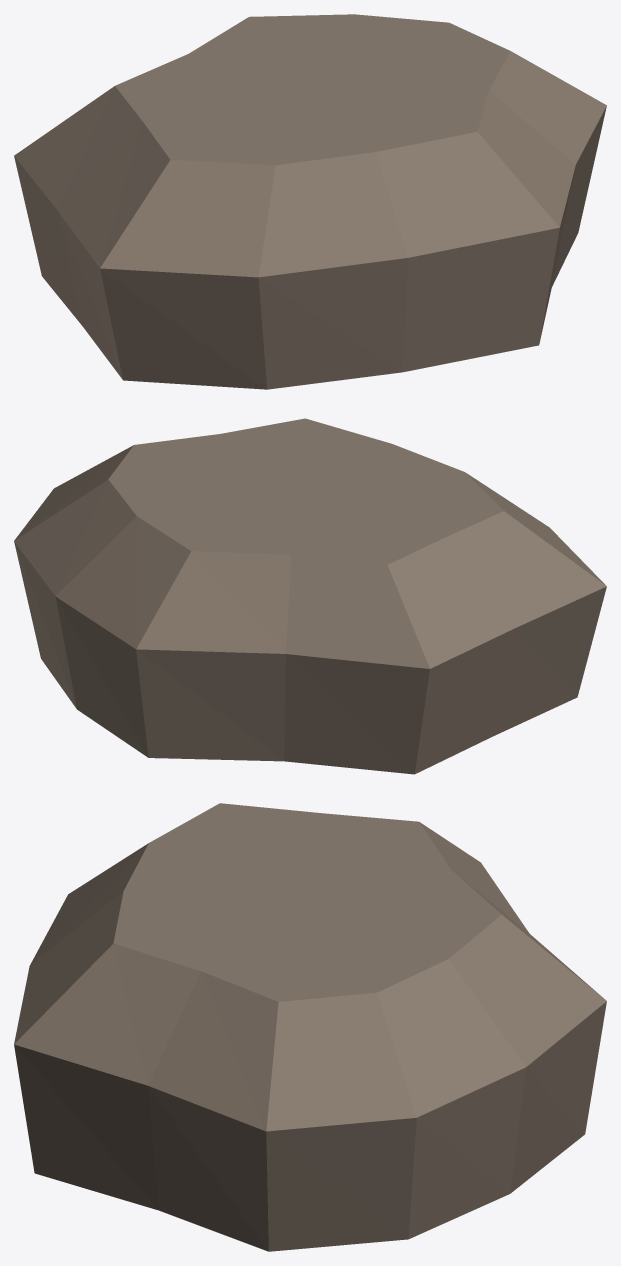
The model's file is stone.glb.
The picture shows the model from 3 angles, top to bottom: view 1: azimuth 30°, elevation 25°; view 2: azimuth 150°, elevation 25°; view 3: azimuth 270°, elevation 25°; orthographic projection. The views are drawn at different scales.
Bounding box in the file's own units: 1.98 × 0.67 × 1.67.
